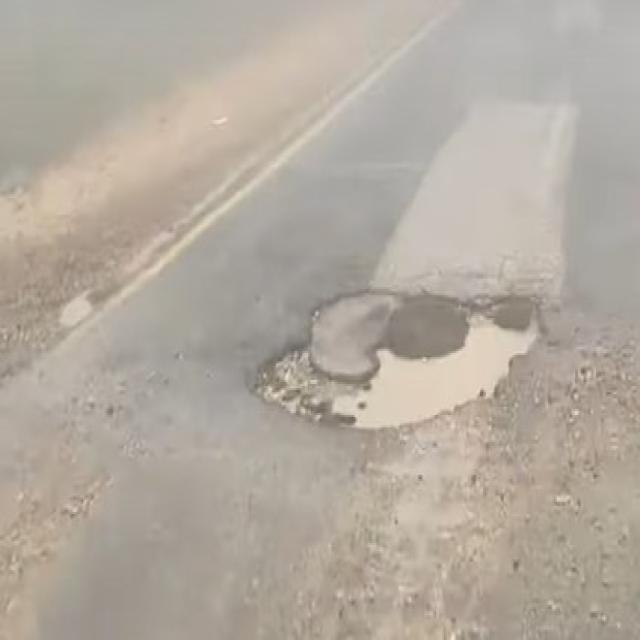major_pothole: (244, 283, 542, 433)
